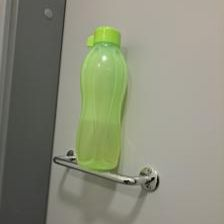bottle: (73, 25, 131, 172)
